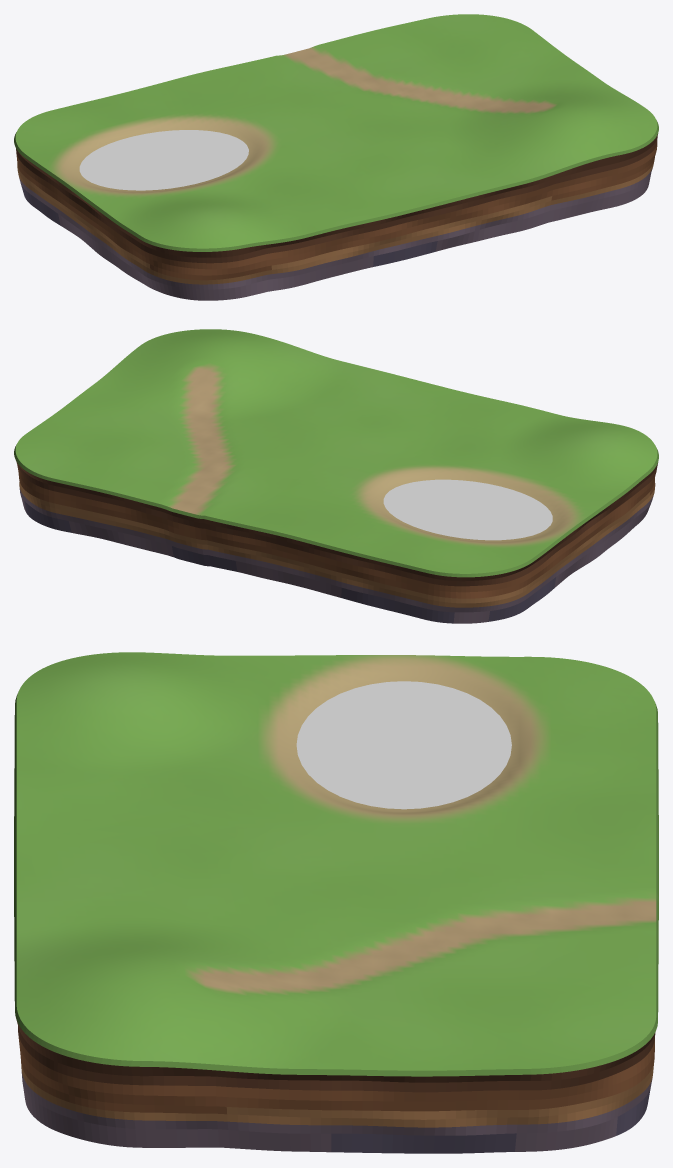
Rendered from terrain_level01.fbx.
3 renders of one model, top to bottom at view 1: azimuth 30°, elevation 25°; view 2: azimuth 150°, elevation 25°; view 3: azimuth 270°, elevation 25°, orthographic. The views are drawn at different scales.
Visible parts, largest first — view 1: Ground, Water_pond; view 2: Ground, Water_pond; view 3: Ground, Water_pond.
Boxes of the visible parts, bbox=[...] form: Ground: bbox=[14, 14, 658, 300]; Water_pond: bbox=[79, 130, 248, 190]; Ground: bbox=[14, 329, 658, 623]; Water_pond: bbox=[383, 479, 552, 540]; Ground: bbox=[14, 652, 658, 1153]; Water_pond: bbox=[296, 681, 511, 809].
Size of the model in its own units: 13.07 by 1.79 by 8.57.
